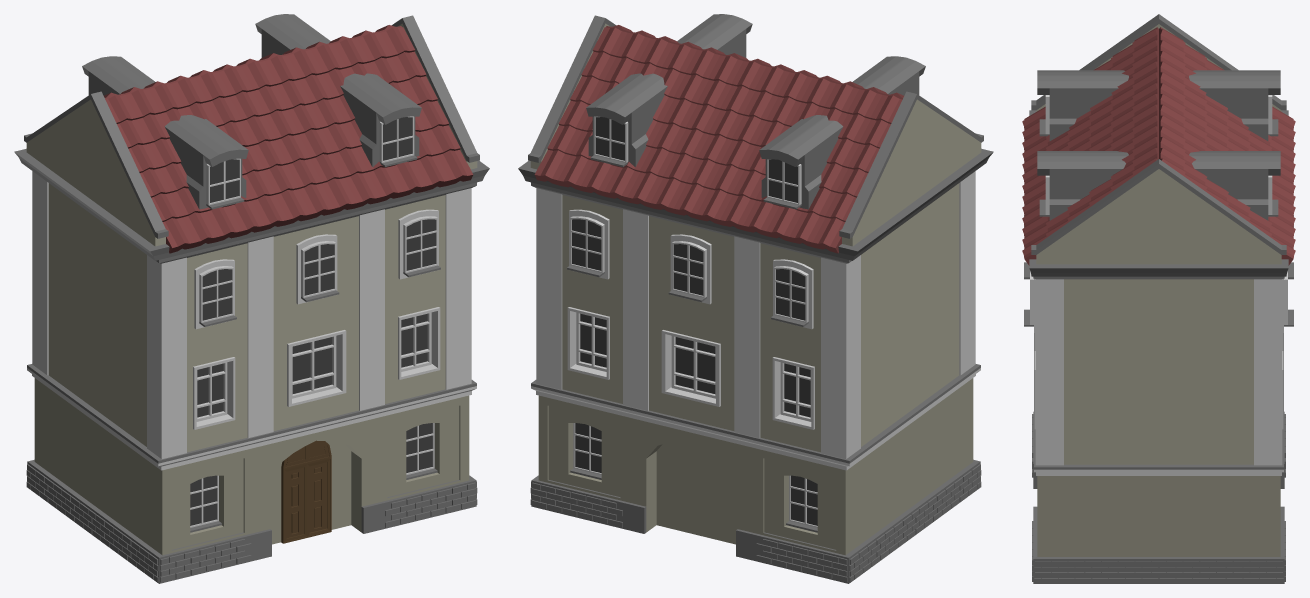
File: house-tall.glb
The picture shows the model from 3 angles, left to right: view 1: azimuth 30°, elevation 25°; view 2: azimuth 150°, elevation 25°; view 3: azimuth 270°, elevation 25°; orthographic projection. The views are drawn at different scales.
Parts seen in each view (by area): view 1: Building1_Small; view 2: Building1_Small; view 3: Building1_Small.
Part boxes in pixels (x1,y1,x2,y2): Building1_Small: (14, 14, 489, 583); Building1_Small: (518, 14, 993, 583); Building1_Small: (1022, 14, 1295, 583).
Bounding box in the file's own units: 3.75 × 4.66 × 2.74.
